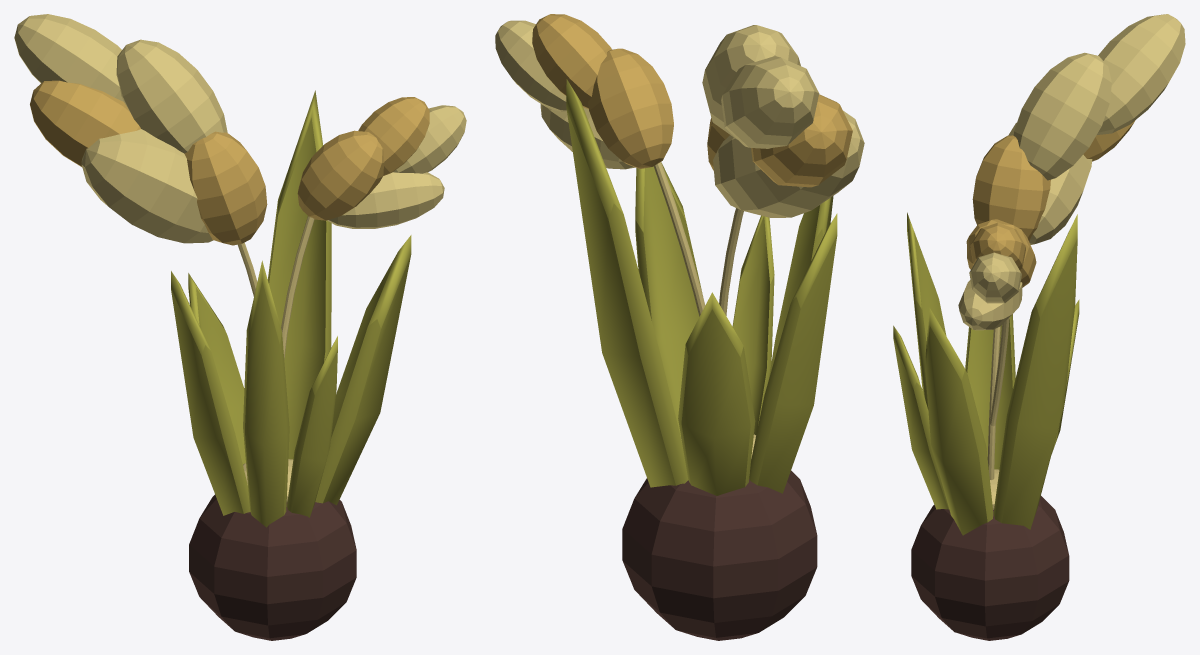
The model's file is RicePhase3.fbx.
3 renders of one model, left to right at view 1: azimuth 30°, elevation 25°; view 2: azimuth 150°, elevation 25°; view 3: azimuth 270°, elevation 25°, orthographic. The views are drawn at different scales.
Visible parts, largest first — view 1: RiceP3Base, RiceP3Leaf5, RiceGroup1Rice2, RiceP3Leaf2, RiceP3Leaf4, RiceGroup1Rice3, RiceP3Leaf1, RiceGroup1Rice1, RiceGroup1Rice6, RiceGroup1Rice5, RiceGroup2Rice1, RiceP3Leaf3 (+5 smaller); view 2: RiceP3Base, RiceP3Leaf5, RiceP3Leaf6, RiceP3Leaf1, RiceP3Leaf4, RiceGroup2Rice1, RiceGroup1Rice6, RiceGroup1Rice2, RiceP3Leaf3, RiceGroup1Rice5, RiceGroup3Rice1, RiceGroup1Rice3 (+6 smaller); view 3: RiceP3Base, RiceP3Leaf5, RiceP3Leaf4, RiceGroup1Rice3, RiceGroup1Rice6, RiceGroup1Rice1, RiceP3Leaf1, RiceP3Leaf3, RiceGroup1Rice2, RiceP3Leaf2, RiceGroup4Rice1, RiceGroup2Rice2 (+6 smaller).
Part boxes in pixels (bbox=[...]): RiceP3Base: bbox=[189, 494, 356, 640]; RiceP3Leaf5: bbox=[267, 90, 331, 459]; RiceGroup1Rice2: bbox=[81, 129, 213, 243]; RiceP3Leaf2: bbox=[243, 260, 289, 527]; RiceP3Leaf4: bbox=[315, 235, 411, 505]; RiceGroup1Rice3: bbox=[116, 39, 227, 153]; RiceP3Leaf1: bbox=[171, 271, 250, 515]; RiceGroup1Rice1: bbox=[184, 131, 267, 245]; RiceGroup1Rice6: bbox=[14, 14, 123, 101]; RiceGroup1Rice5: bbox=[30, 80, 140, 166]; RiceGroup2Rice1: bbox=[297, 130, 384, 220]; RiceP3Leaf3: bbox=[287, 336, 337, 517]; RiceP3Base: bbox=[622, 470, 817, 640]; RiceP3Leaf5: bbox=[566, 79, 688, 487]; RiceP3Leaf6: bbox=[678, 292, 755, 495]; RiceP3Leaf1: bbox=[749, 213, 837, 493]; RiceP3Leaf4: bbox=[635, 163, 702, 436]; RiceGroup2Rice1: bbox=[588, 48, 673, 168]; RiceGroup1Rice6: bbox=[721, 56, 819, 148]; RiceGroup1Rice2: bbox=[713, 110, 864, 217]; RiceP3Leaf3: bbox=[732, 215, 774, 434]; RiceGroup1Rice5: bbox=[751, 94, 852, 187]; RiceGroup3Rice1: bbox=[532, 14, 611, 109]; RiceGroup1Rice3: bbox=[702, 25, 800, 139]; RiceP3Base: bbox=[911, 496, 1069, 640]; RiceP3Leaf5: bbox=[993, 214, 1077, 529]; RiceP3Leaf4: bbox=[925, 308, 993, 535]; RiceGroup1Rice3: bbox=[1013, 52, 1111, 180]; RiceGroup1Rice6: bbox=[1097, 14, 1185, 134]; RiceGroup1Rice1: bbox=[972, 135, 1050, 241]; RiceP3Leaf1: bbox=[965, 314, 1015, 469]; RiceP3Leaf3: bbox=[893, 325, 948, 509]; RiceGroup1Rice2: bbox=[1008, 122, 1092, 244]; RiceP3Leaf2: bbox=[907, 212, 946, 409]; RiceGroup4Rice1: bbox=[969, 252, 1021, 303]; RiceGroup2Rice2: bbox=[958, 280, 1022, 330].
Size of the model in its own units: 3.19 by 4.92 by 2.36.
